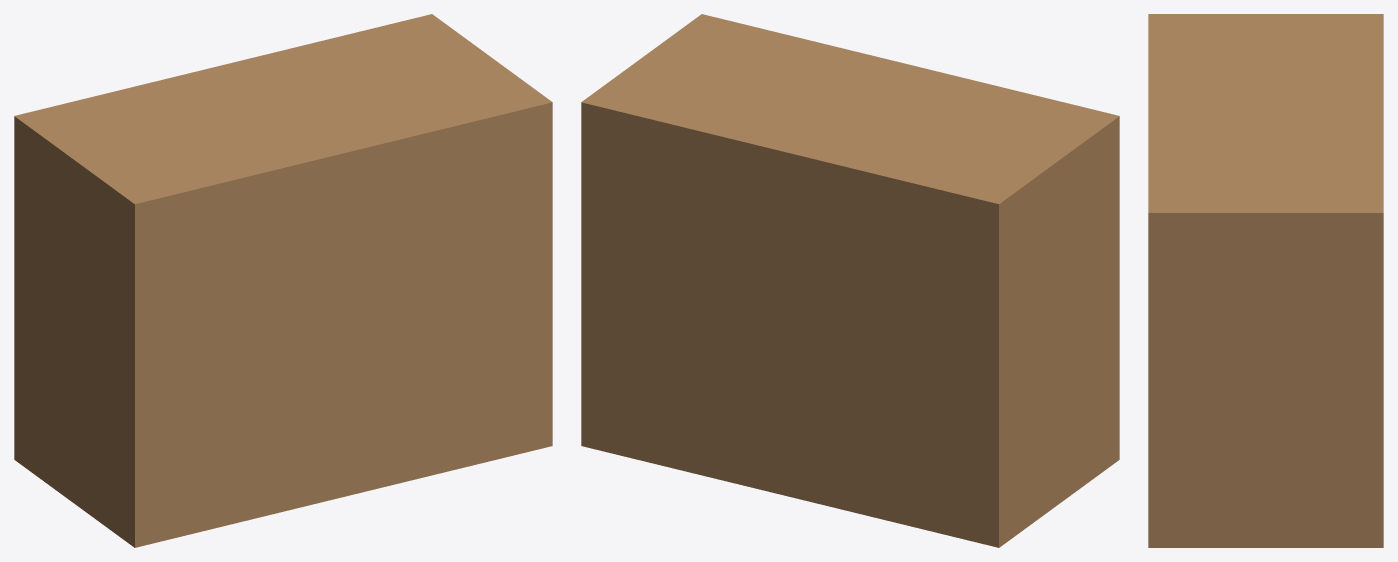
The model's file is standing-desk-01.glb.
The picture shows the model from 3 angles, left to right: view 1: azimuth 30°, elevation 25°; view 2: azimuth 150°, elevation 25°; view 3: azimuth 270°, elevation 25°; orthographic projection. The views are drawn at different scales.
Size of the model in its own units: 1.4 by 1.1 by 0.7.
